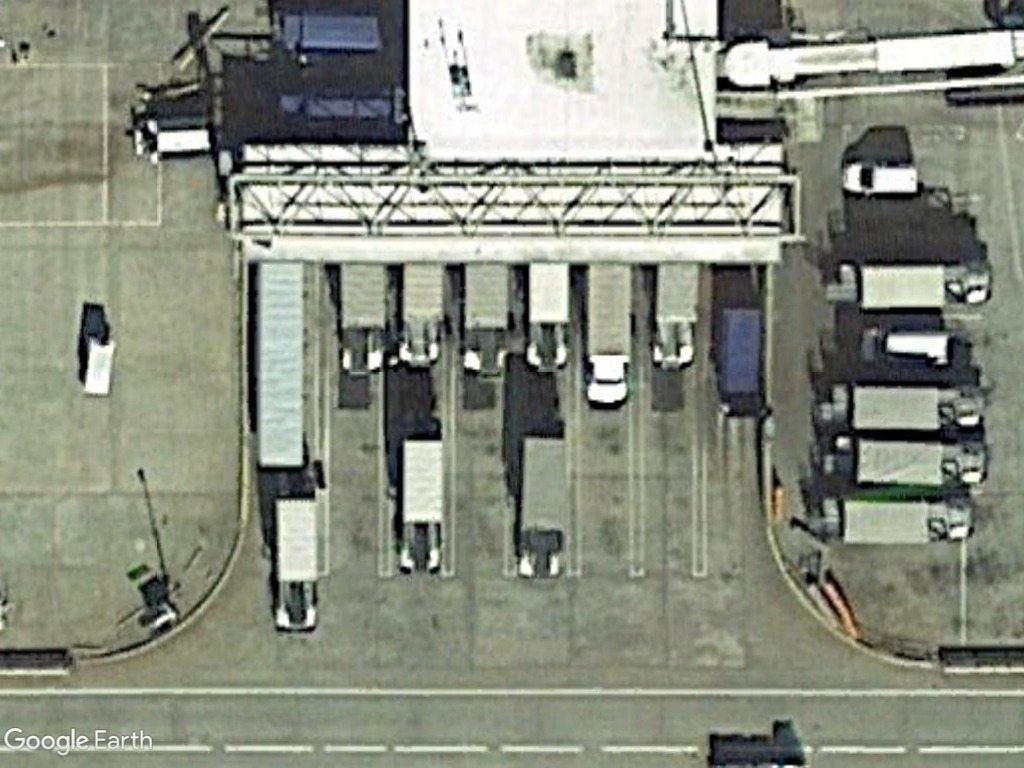car: (836, 153, 923, 200)
truck: (510, 428, 573, 583), (828, 486, 975, 548), (269, 491, 328, 637), (848, 435, 992, 492), (845, 374, 984, 433), (394, 425, 448, 576), (582, 263, 634, 410)
